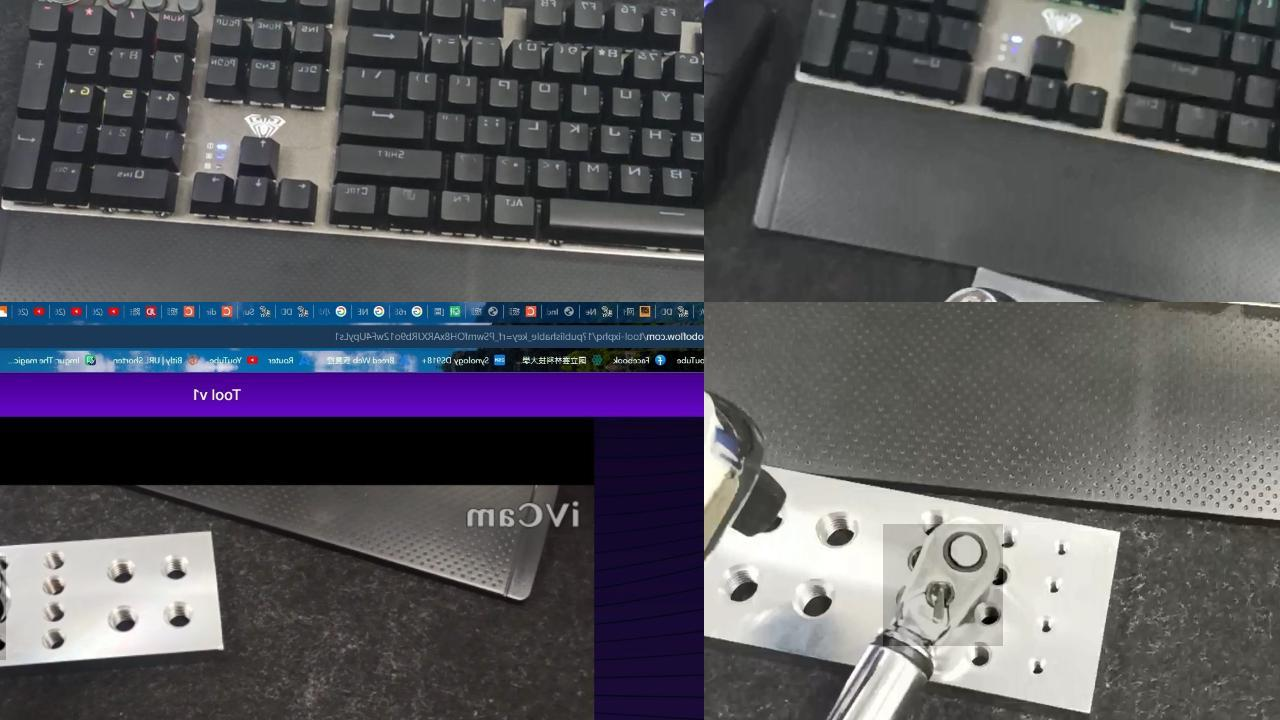Tool: (704, 389, 764, 706), (883, 524, 1003, 646)
